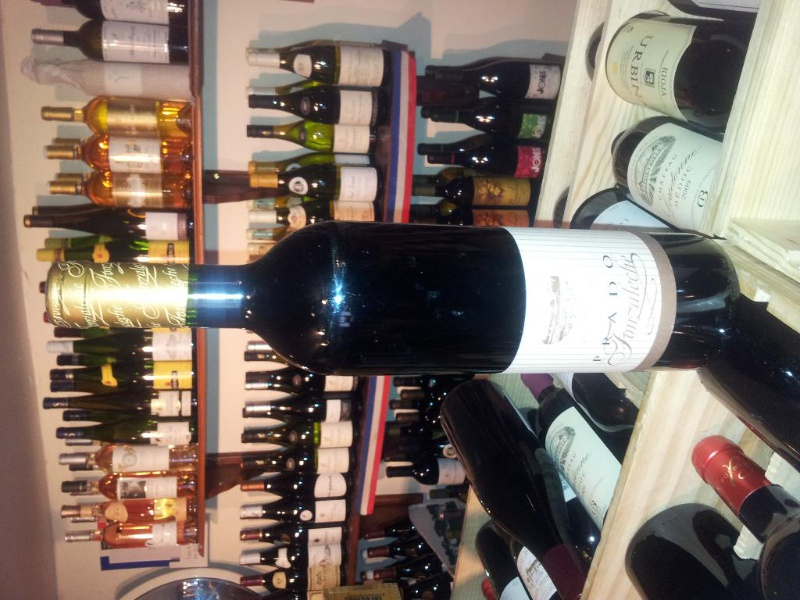knife: (18, 3, 799, 600)
wine: (44, 211, 738, 382)
